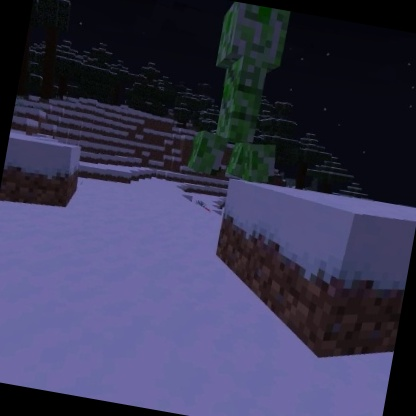creeper: (183, 0, 306, 188)
